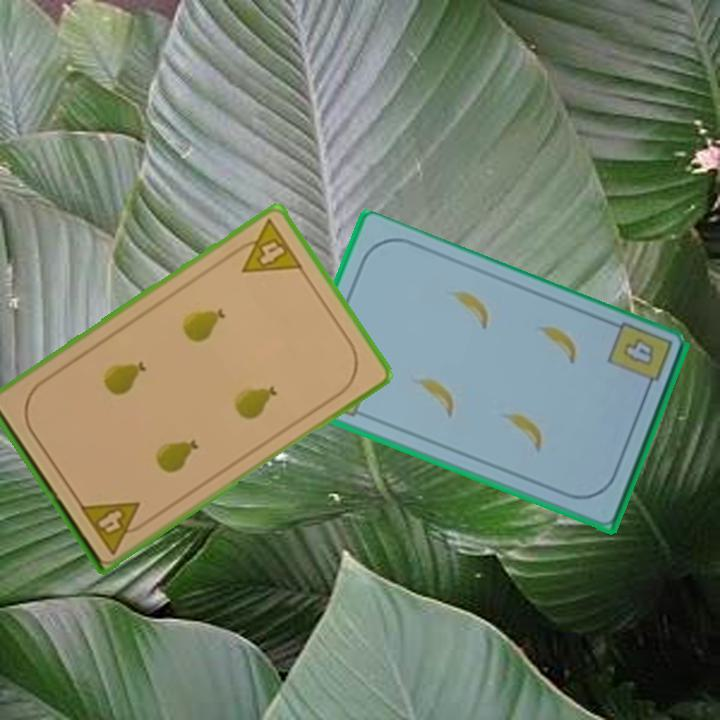4b: (604, 319, 675, 398)
4p: (227, 215, 306, 276), (76, 497, 153, 557)
